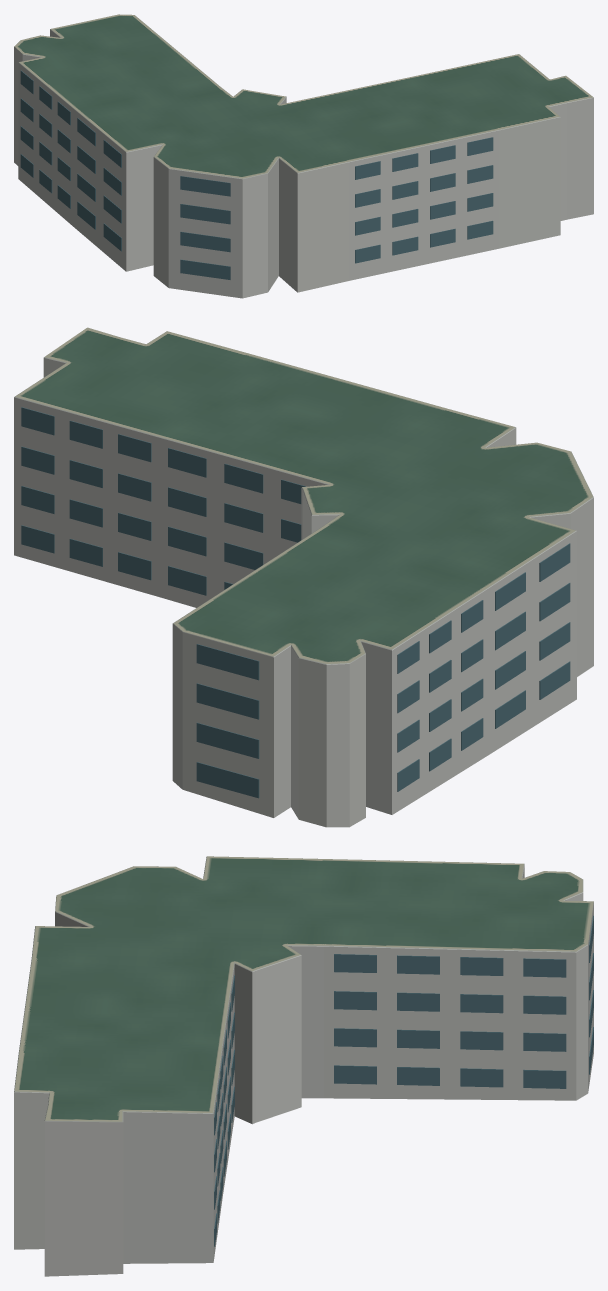
Rendered from fragments.glb.
3 views of the same model, one above another, from view 1: azimuth 30°, elevation 25°; view 2: azimuth 150°, elevation 25°; view 3: azimuth 270°, elevation 25° (orthographic). The views are drawn at different scales.
Visible parts, largest first — view 1: SM_dorm-a_Fragment_002, SM_dorm-a_Fragment_000, SM_dorm-a_Fragment_051, SM_dorm-a_Fragment_019, SM_dorm-a_Fragment_009, SM_dorm-a_Fragment_027, SM_dorm-a_Fragment_035, SM_dorm-a_Fragment_050, SM_dorm-a_Fragment_020, SM_dorm-a_Fragment_015, SM_dorm-a_Fragment_052, SM_dorm-a_Fragment_001 (+26 smaller); view 2: SM_dorm-a_Fragment_001, SM_dorm-a_Fragment_031, SM_dorm-a_Fragment_016, SM_dorm-a_Fragment_048, SM_dorm-a_Fragment_029, SM_dorm-a_Fragment_015, SM_dorm-a_Fragment_040, SM_dorm-a_Fragment_005, SM_dorm-a_Fragment_035, SM_dorm-a_Fragment_058, SM_dorm-a_Fragment_017, SM_dorm-a_Fragment_046 (+27 smaller); view 3: SM_dorm-a_Fragment_063, SM_dorm-a_Fragment_032, SM_dorm-a_Fragment_003, SM_dorm-a_Fragment_061, SM_dorm-a_Fragment_004, SM_dorm-a_Fragment_007, SM_dorm-a_Fragment_036, SM_dorm-a_Fragment_045, SM_dorm-a_Fragment_005, SM_dorm-a_Fragment_020, SM_dorm-a_Fragment_042, SM_dorm-a_Fragment_024 (+24 smaller).
Part boxes in pixels (x1,y1,x2,y2): SM_dorm-a_Fragment_002: (148,142,238,252); SM_dorm-a_Fragment_000: (412,129,493,227); SM_dorm-a_Fragment_051: (234,177,347,280); SM_dorm-a_Fragment_019: (305,122,427,204); SM_dorm-a_Fragment_009: (230,142,348,202); SM_dorm-a_Fragment_027: (180,225,299,298); SM_dorm-a_Fragment_035: (97,122,190,209); SM_dorm-a_Fragment_050: (347,177,423,273); SM_dorm-a_Fragment_020: (489,86,576,162); SM_dorm-a_Fragment_015: (47,82,126,170); SM_dorm-a_Fragment_052: (476,124,545,231); SM_dorm-a_Fragment_001: (14,40,83,134); SM_dorm-a_Fragment_001: (314,611,451,737); SM_dorm-a_Fragment_031: (158,423,273,557); SM_dorm-a_Fragment_016: (178,631,326,719); SM_dorm-a_Fragment_048: (14,375,141,499); SM_dorm-a_Fragment_029: (271,719,397,827); SM_dorm-a_Fragment_015: (405,551,528,672); SM_dorm-a_Fragment_040: (172,680,271,817); SM_dorm-a_Fragment_005: (253,431,395,531); SM_dorm-a_Fragment_035: (487,493,593,610); SM_dorm-a_Fragment_058: (110,394,233,501); SM_dorm-a_Fragment_017: (493,571,576,720); SM_dorm-a_Fragment_046: (69,499,194,607); SM_dorm-a_Fragment_063: (450,938,586,1030); SM_dorm-a_Fragment_032: (44,1091,155,1206); SM_dorm-a_Fragment_003: (123,1112,217,1224); SM_dorm-a_Fragment_061: (323,919,439,1022); SM_dorm-a_Fragment_004: (282,983,398,1089); SM_dorm-a_Fragment_007: (447,1025,566,1100); SM_dorm-a_Fragment_036: (44,1192,145,1276); SM_dorm-a_Fragment_045: (213,926,337,1023); SM_dorm-a_Fragment_005: (131,948,259,1030); SM_dorm-a_Fragment_020: (14,1051,126,1149); SM_dorm-a_Fragment_042: (392,935,469,1055); SM_dorm-a_Fragment_024: (102,896,224,954).
Size of the model in its own units: 2.2 by 0.6158 by 2.03.
5 materials, 1 textured.
